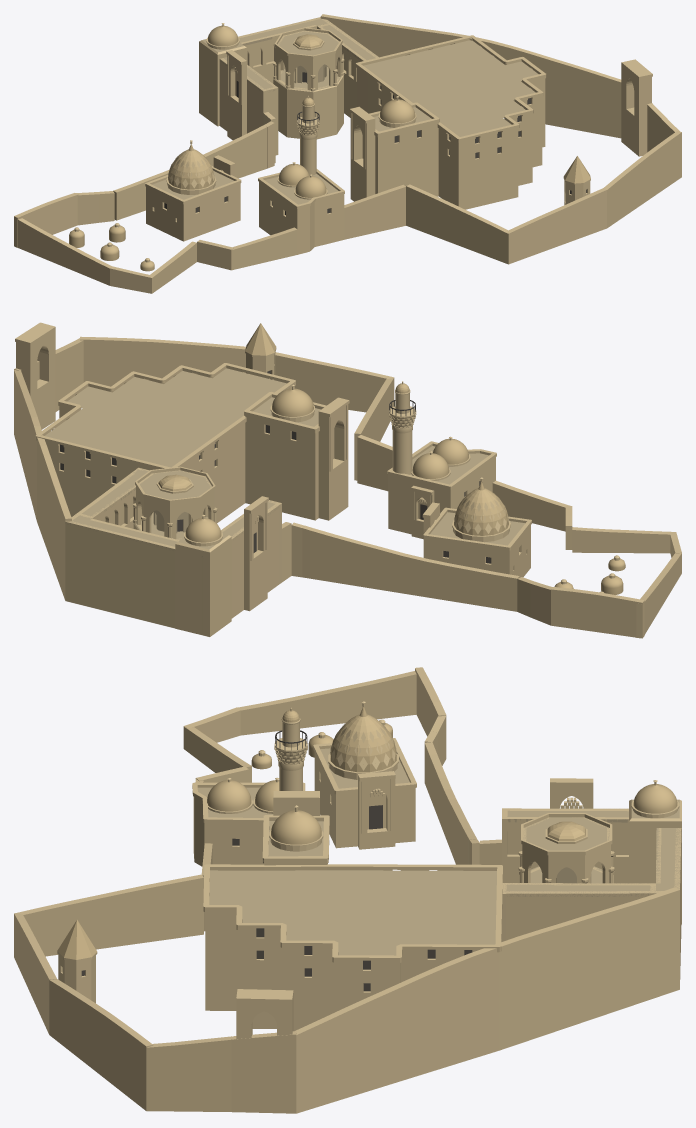
The model's file is baku-shirvanshahs-palace.detail.glb.
The picture shows the model from 3 angles, top to bottom: view 1: azimuth 30°, elevation 25°; view 2: azimuth 150°, elevation 25°; view 3: azimuth 270°, elevation 25°; orthographic projection. The views are drawn at different scales.
Visible parts, largest first — view 1: Palace of the Shirvanshahs; view 2: Palace of the Shirvanshahs; view 3: Palace of the Shirvanshahs.
Boxes of the visible parts, x1,y1,x2,y2 form: Palace of the Shirvanshahs: (14, 14, 681, 293); Palace of the Shirvanshahs: (14, 322, 681, 638); Palace of the Shirvanshahs: (14, 667, 681, 1113).
Size of the model in its own units: 119 by 24.44 by 83.51.
